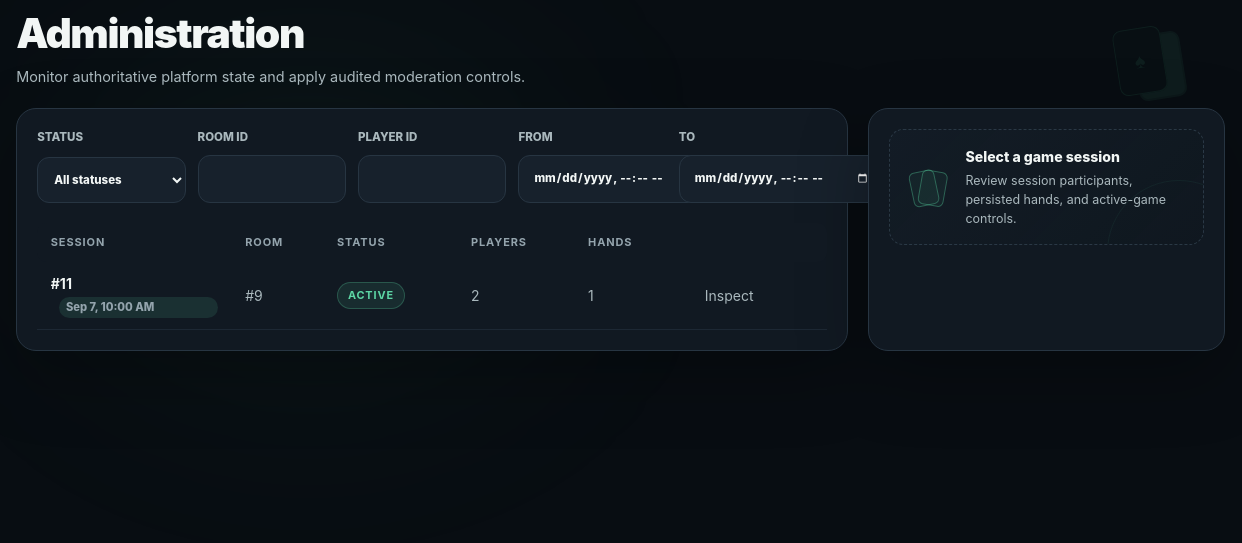
Test: AdminPage › exposes game detail, hands, filters, and termination
Expected: the number field labelled "Room ID" is shown, [198,155,346,203]
Expected: the number field labelled "Player ID" is shown, [358,155,506,203]
Click the button "Inspect" at (729, 295), box [689,273,770,317]
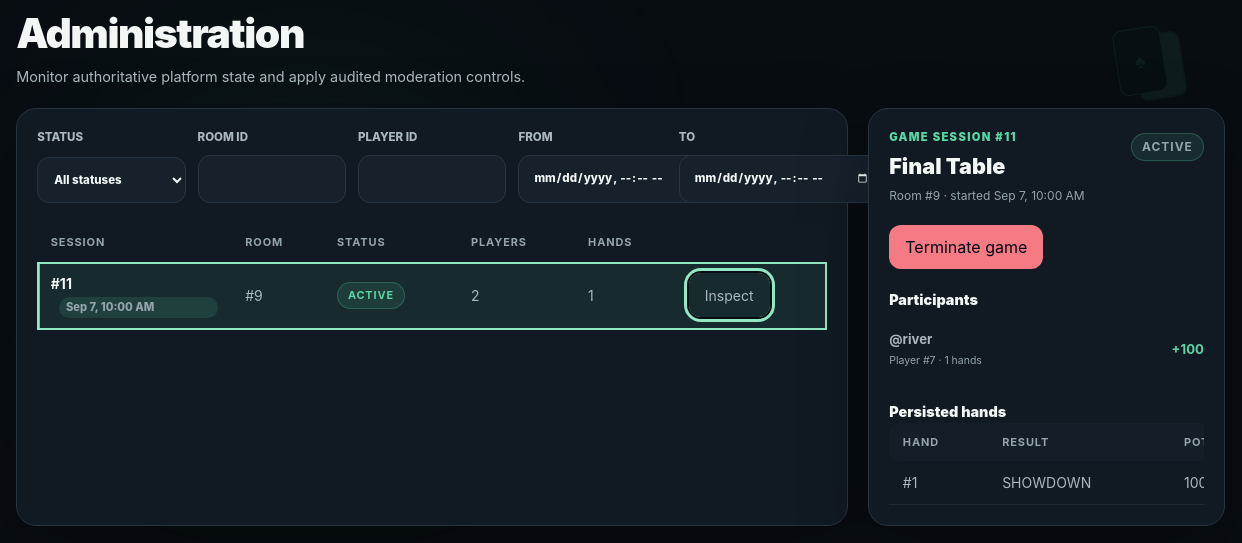
Result: the element named "Session hands" shows "SHOWDOWN" at [1002,474,1091,491]
Result: the button "Terminate game" is enabled at [889,225,1043,269]
